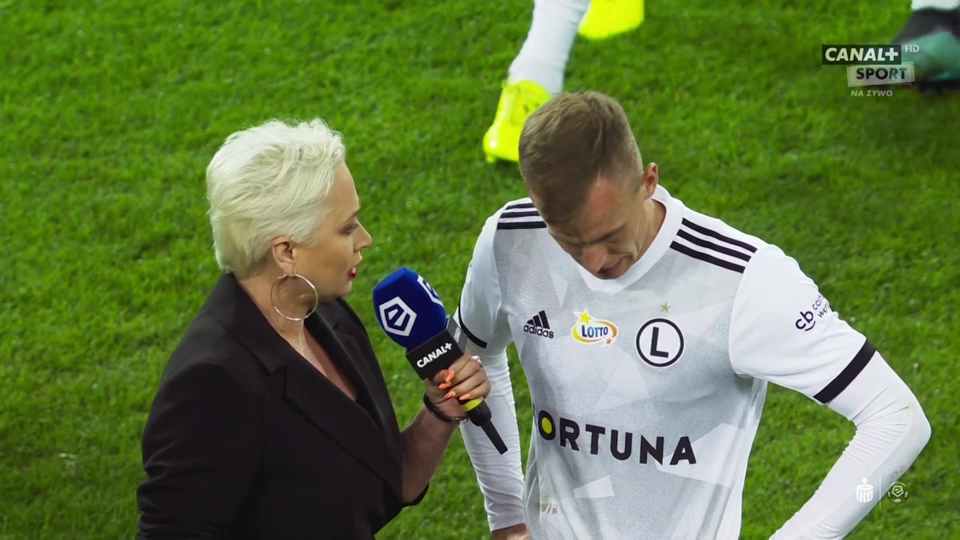Adidas: (522, 308, 556, 339)
